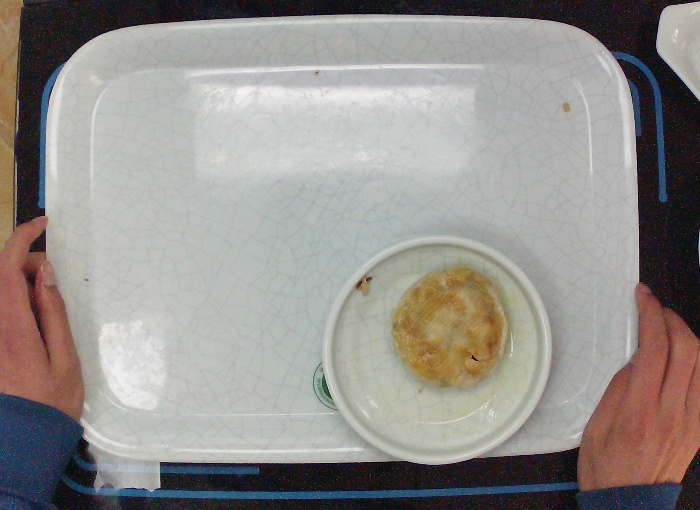JYsf-Xiao_Yuan_Pan: (320, 232, 554, 467)
